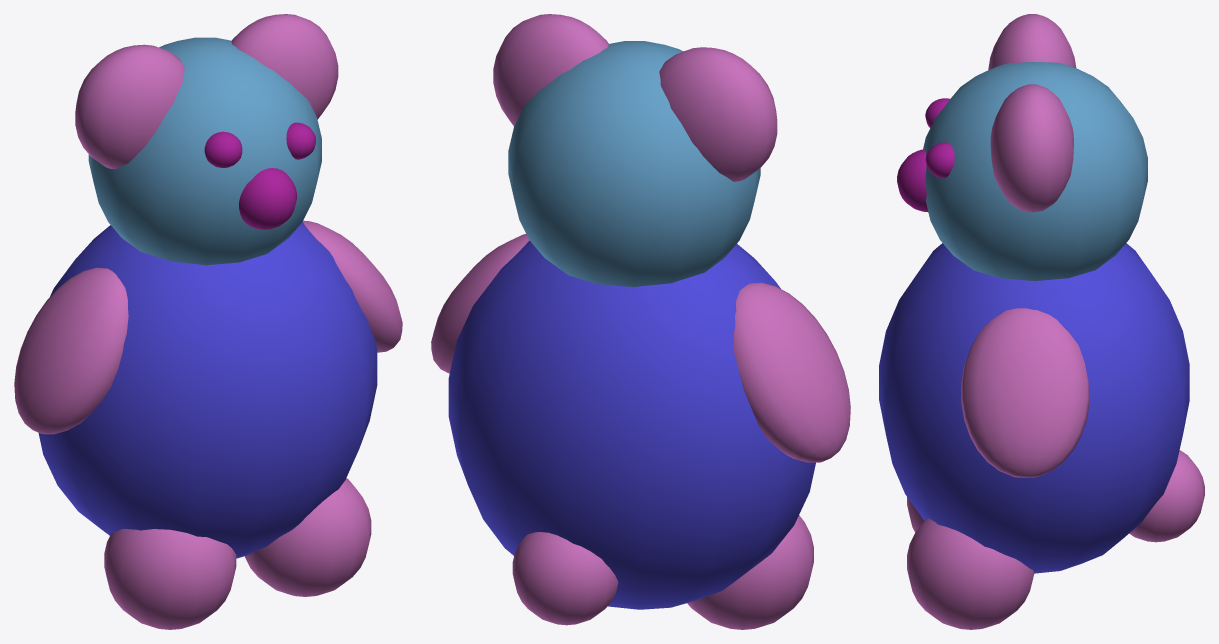
Rendered from Teddy.fbx.
3 renders of one model, left to right at view 1: azimuth 30°, elevation 25°; view 2: azimuth 150°, elevation 25°; view 3: azimuth 270°, elevation 25°, orthographic. The views are drawn at different scales.
Parts seen in each view (by area): view 1: pSphere21; view 2: pSphere21; view 3: pSphere21.
Part boxes in pixels (x1,y1,x2,y2): pSphere21: (14, 14, 402, 629); pSphere21: (431, 14, 850, 629); pSphere21: (879, 14, 1204, 629).
Size of the model in its own units: 2.64 by 3.78 by 2.07.
